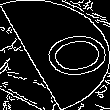O_W: (11, 25, 99, 85)
